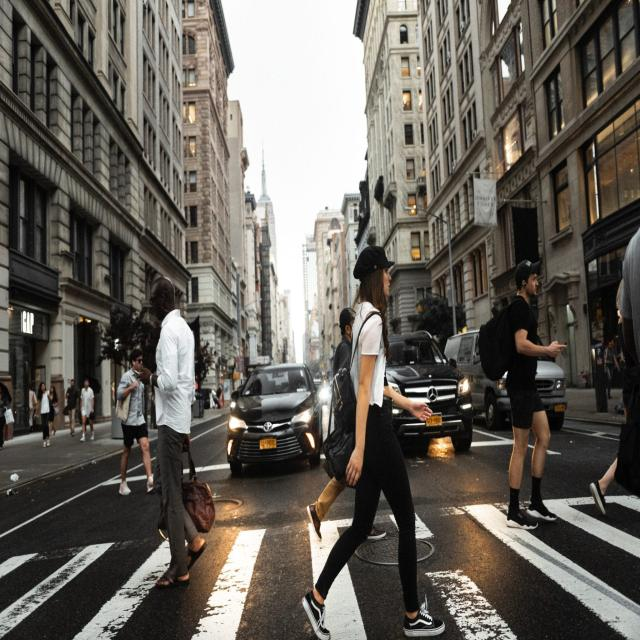Pedestrians: (302, 246, 432, 638), (140, 276, 208, 590), (499, 262, 568, 530), (118, 351, 156, 499), (80, 378, 95, 442), (39, 380, 53, 448)
